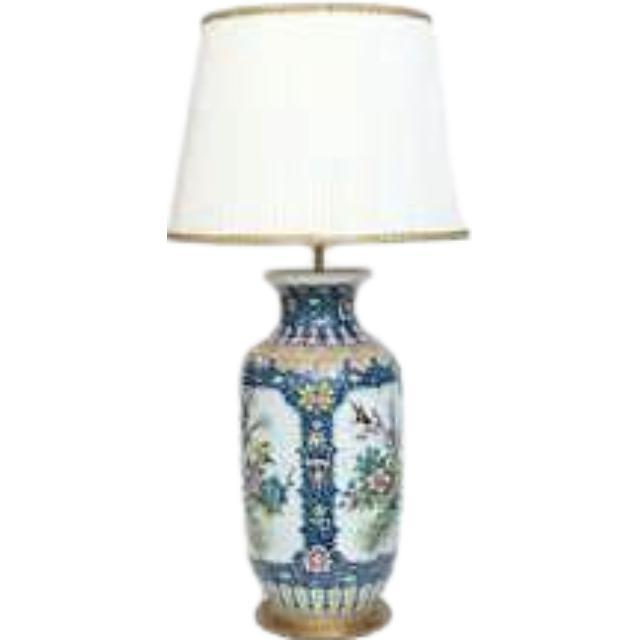lamp: (168, 0, 467, 640)
